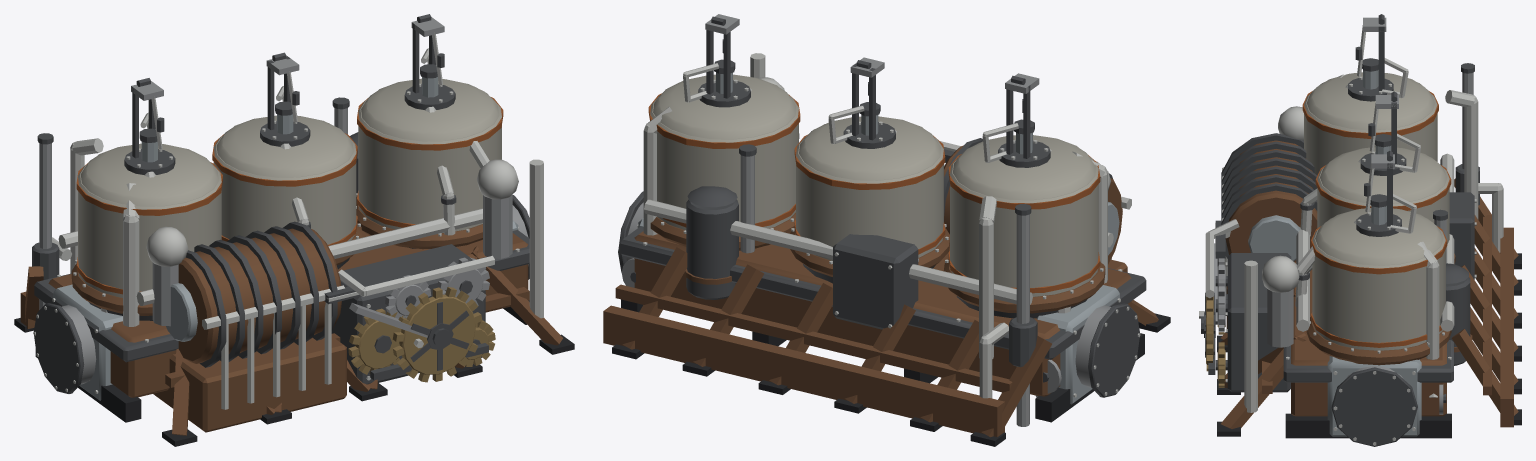
File: steam-engine-east.glb
3 renders of one model, left to right at view 1: azimuth 30°, elevation 25°; view 2: azimuth 150°, elevation 25°; view 3: azimuth 270°, elevation 25°, orthographic. The views are drawn at different scales.
Visible parts, largest first — view 1: body, anim_spin_flywheel_ns; view 2: body; view 3: body, anim_spin_flywheel_ns.
Boxes of the visible parts, x1,y1,x2,y2 form: body: (14, 14, 574, 446); anim_spin_flywheel_ns: (392, 287, 482, 382); body: (603, 14, 1170, 446); body: (1205, 14, 1521, 446); anim_spin_flywheel_ns: (1199, 292, 1215, 371).
Size of the model in its own units: 5 by 3 by 3.29.
